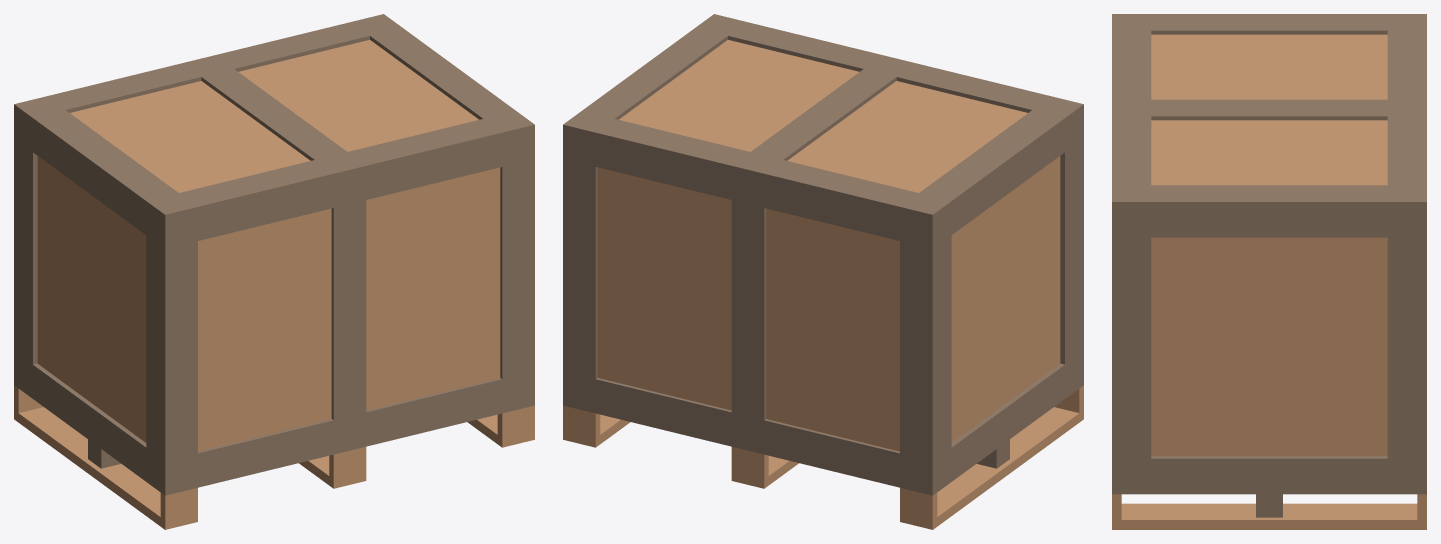
File: crate01.fbx
The picture shows the model from 3 angles, left to right: view 1: azimuth 30°, elevation 25°; view 2: azimuth 150°, elevation 25°; view 3: azimuth 270°, elevation 25°; orthographic projection. The views are drawn at different scales.
Visible parts, largest first — view 1: Cube.002; view 2: Cube.002; view 3: Cube.002.
Part boxes in pixels (x1,y1,x2,y2): Cube.002: (14,14,534,529); Cube.002: (563,14,1083,529); Cube.002: (1112,14,1426,529).
Size of the model in its own units: 113 by 92 by 80.
